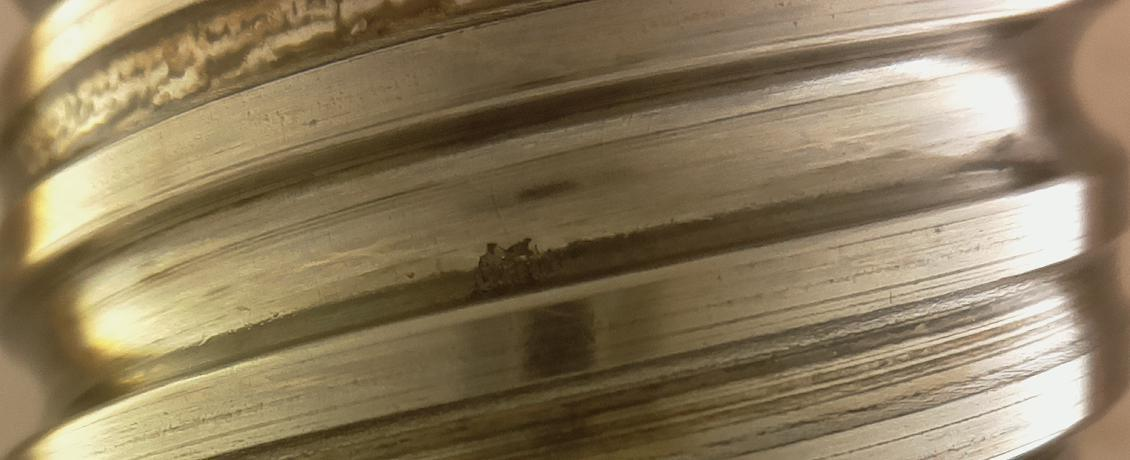pitting: (470, 238, 567, 301)
